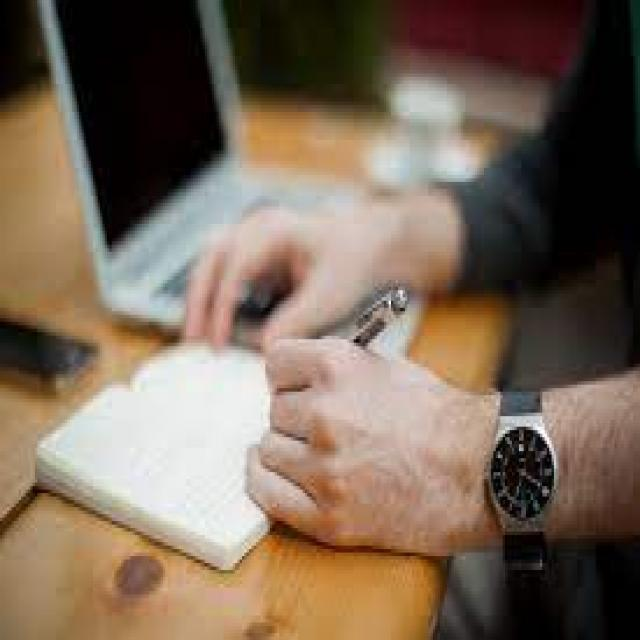Watch: (476, 379, 566, 583)
